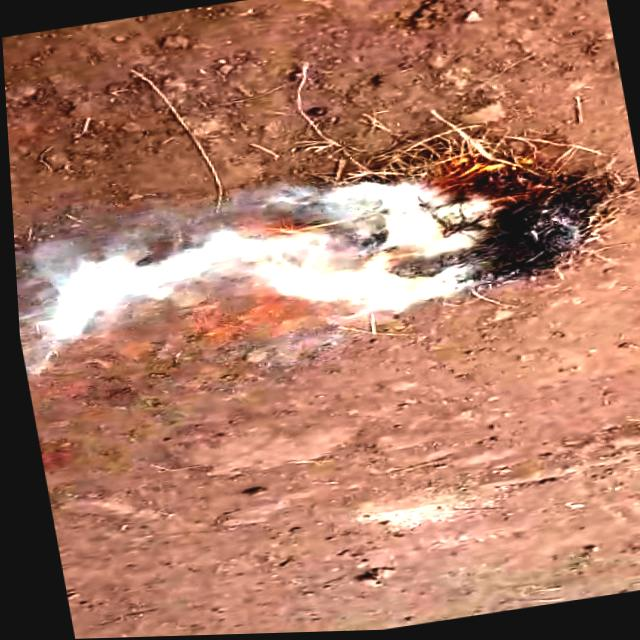Smoke: (8, 153, 523, 372)
